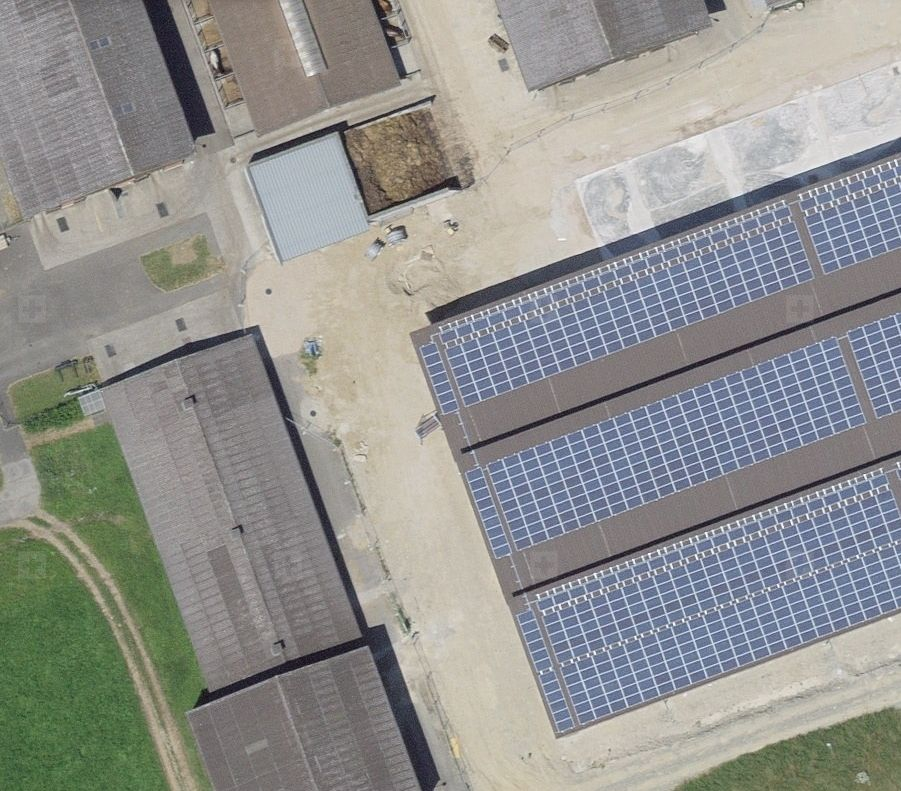solar: (417, 161, 901, 731)
